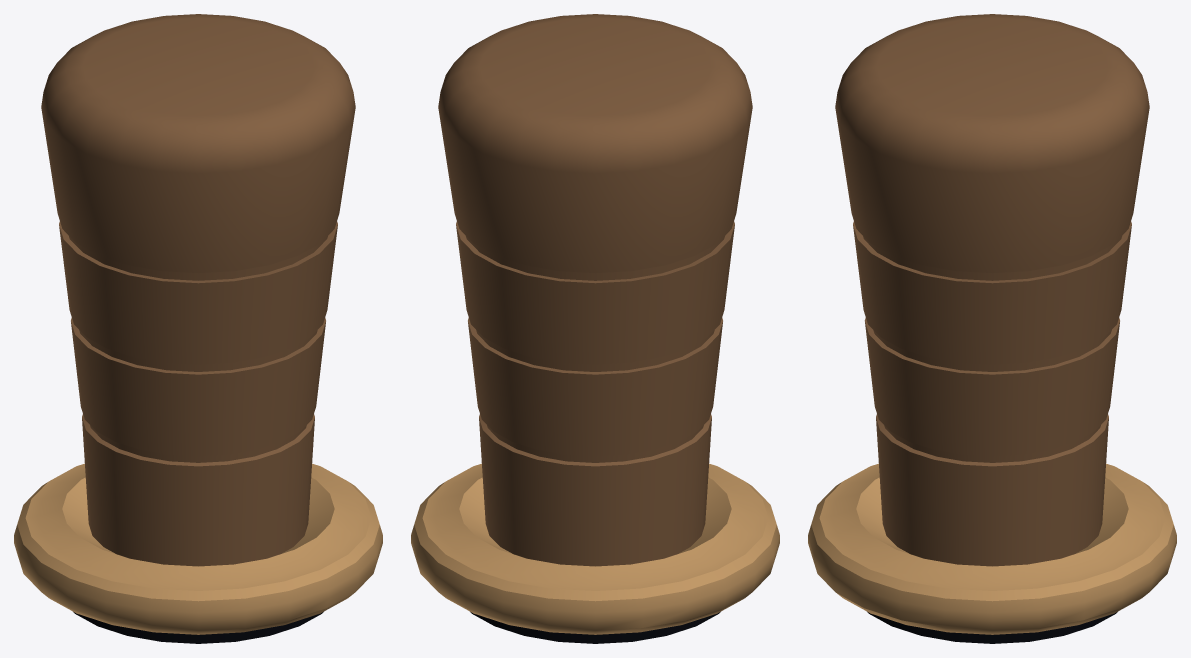
File: damga3.fbx
The picture shows the model from 3 angles, left to right: view 1: azimuth 30°, elevation 25°; view 2: azimuth 150°, elevation 25°; view 3: azimuth 270°, elevation 25°; orthographic projection.
Visible parts, largest first — view 1: damga3; view 2: damga3; view 3: damga3.
Boxes of the visible parts, bbox=[...] form: damga3: bbox=[14, 14, 382, 643]; damga3: bbox=[411, 14, 779, 643]; damga3: bbox=[808, 14, 1176, 643].
Size of the model in its own units: 64.34 by 64.34 by 99.45.
